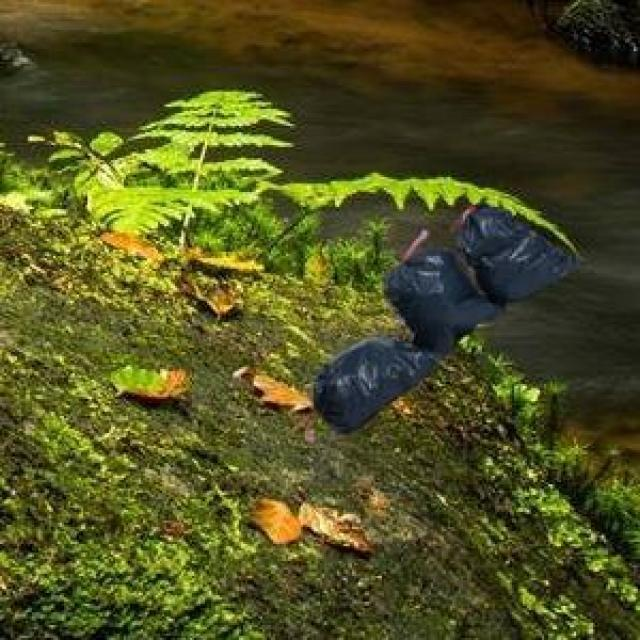waste: (315, 208, 579, 432)
